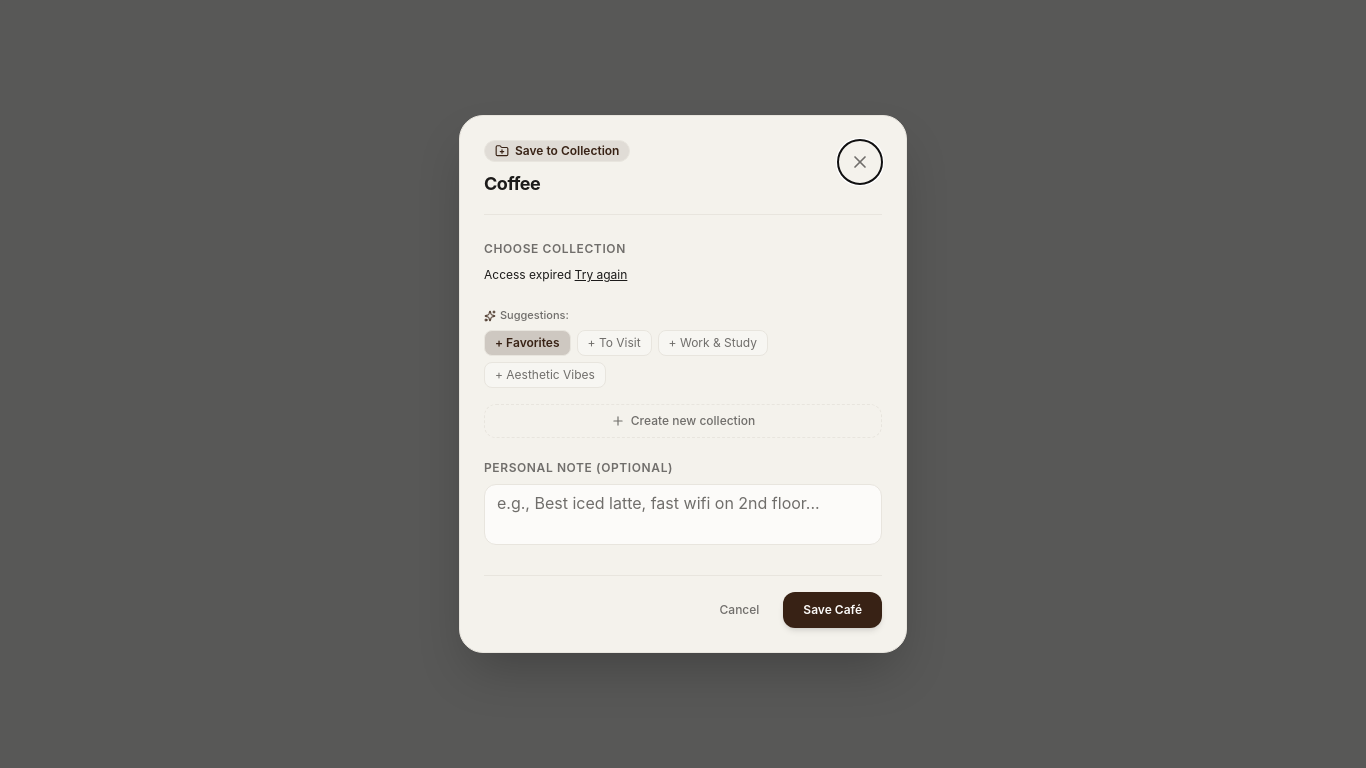
Scenario: CollectionPicker › hides expired warm names and retries the account read
The width and height of the screenshot is (1366, 768).
Click the button "Try again" at [601, 275], box [575,267,627,283]
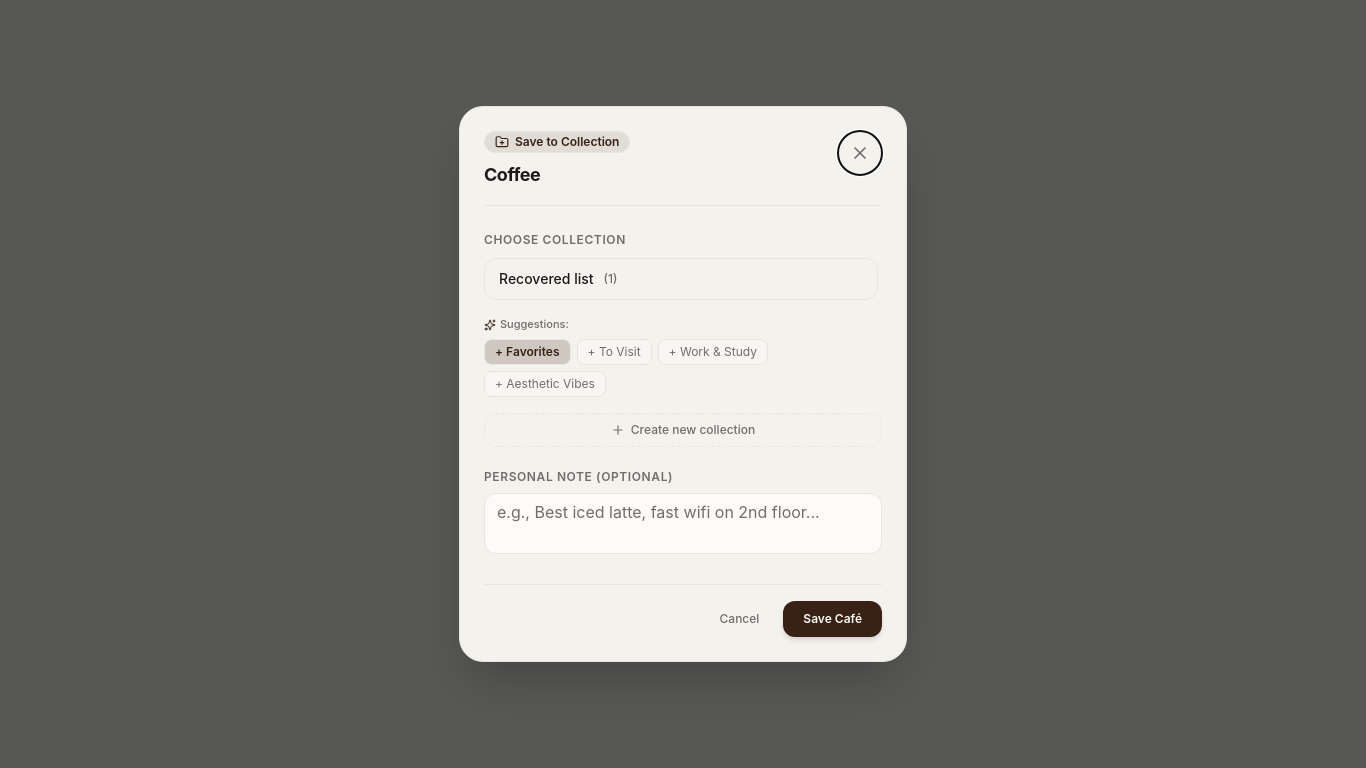
Check: the text "Recovered list" is shown, box [499,269,594,289]
